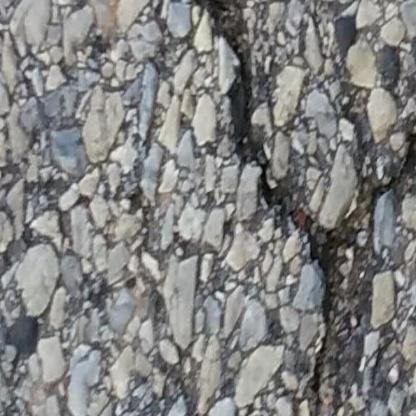Cracks: (148, 0, 416, 416)
